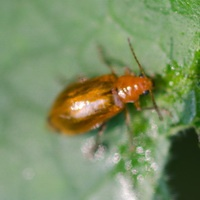insect: (48, 39, 162, 134)
